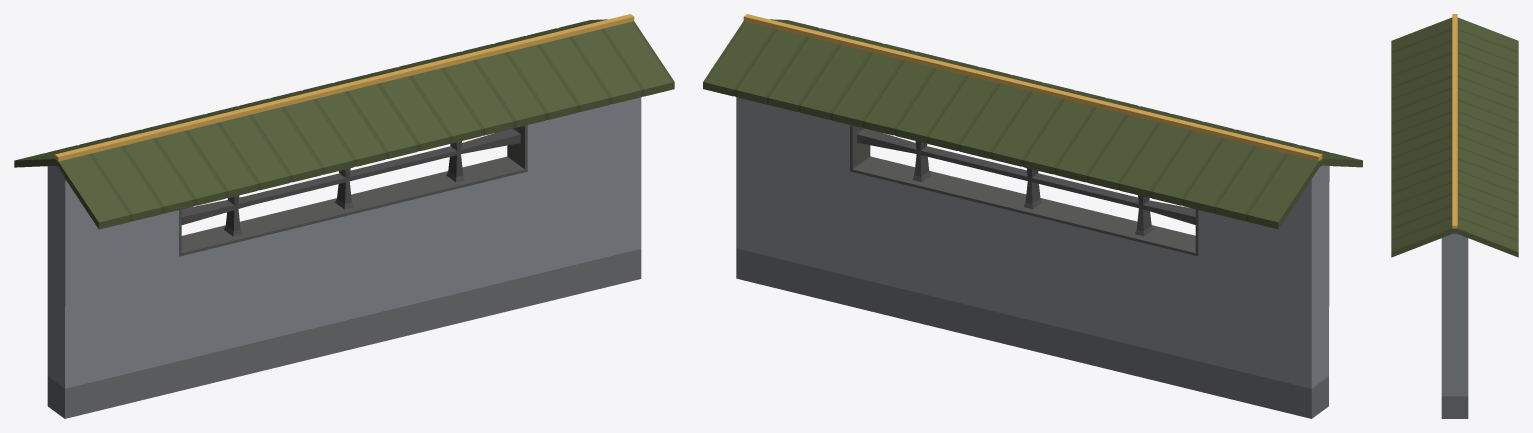
The model's file is Wall_3.fbx.
The picture shows the model from 3 angles, left to right: view 1: azimuth 30°, elevation 25°; view 2: azimuth 150°, elevation 25°; view 3: azimuth 270°, elevation 25°; orthographic projection. The views are drawn at different scales.
Visible parts, largest first — view 1: Wall_3; view 2: Wall_3; view 3: Wall_3.
Boxes of the visible parts, left/top/right/bottom form: Wall_3: left=14, top=14, right=674, bottom=418; Wall_3: left=703, top=14, right=1362, bottom=418; Wall_3: left=1391, top=14, right=1518, bottom=418.
Bounding box in the file's own units: 552 × 235 × 141.
